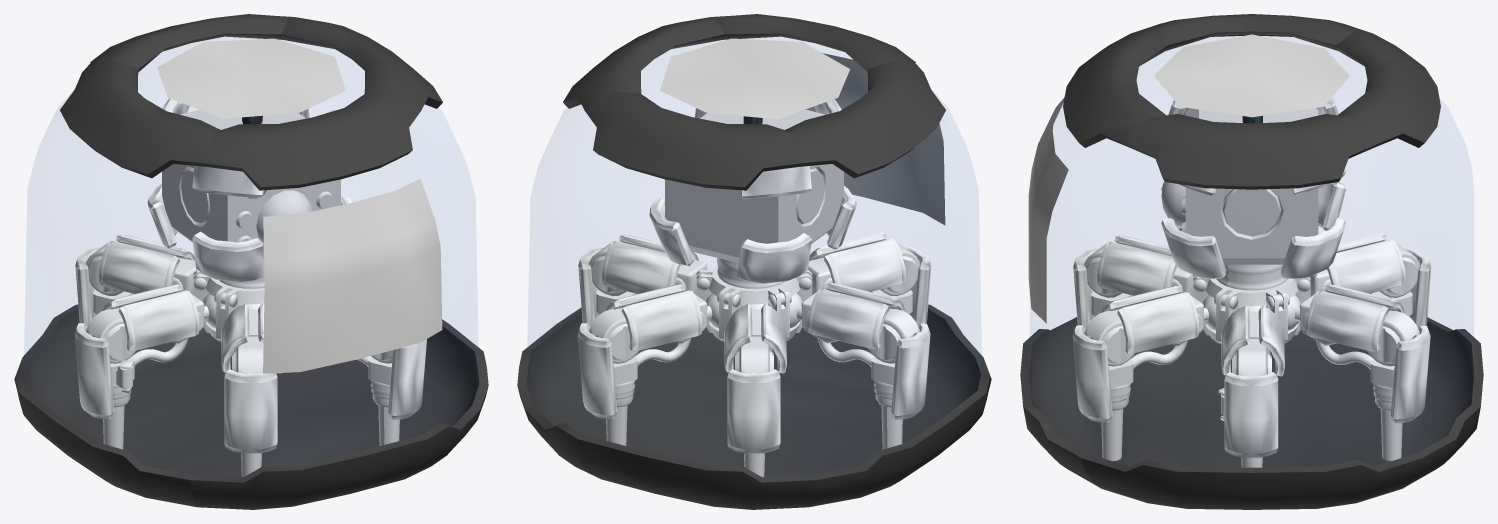
The model's file is blueTotebotPackage.fbx.
The picture shows the model from 3 angles, left to right: view 1: azimuth 30°, elevation 25°; view 2: azimuth 150°, elevation 25°; view 3: azimuth 270°, elevation 25°; orthographic projection.
Parts seen in each view (by area): view 1: obj_characterobject_bluetotebotpackage; view 2: obj_characterobject_bluetotebotpackage; view 3: obj_characterobject_bluetotebotpackage.
Part boxes in pixels (box(x1,y1,x2,y2)): obj_characterobject_bluetotebotpackage: box(14, 14, 488, 509); obj_characterobject_bluetotebotpackage: box(517, 14, 991, 509); obj_characterobject_bluetotebotpackage: box(1020, 14, 1483, 509).
Bounding box in the file's own units: 6.97 × 6.01 × 6.97.
